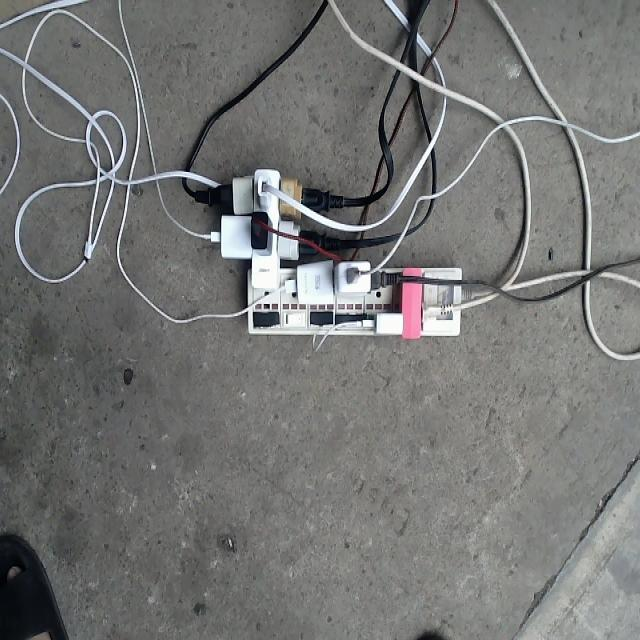-: (207, 168, 461, 337)
